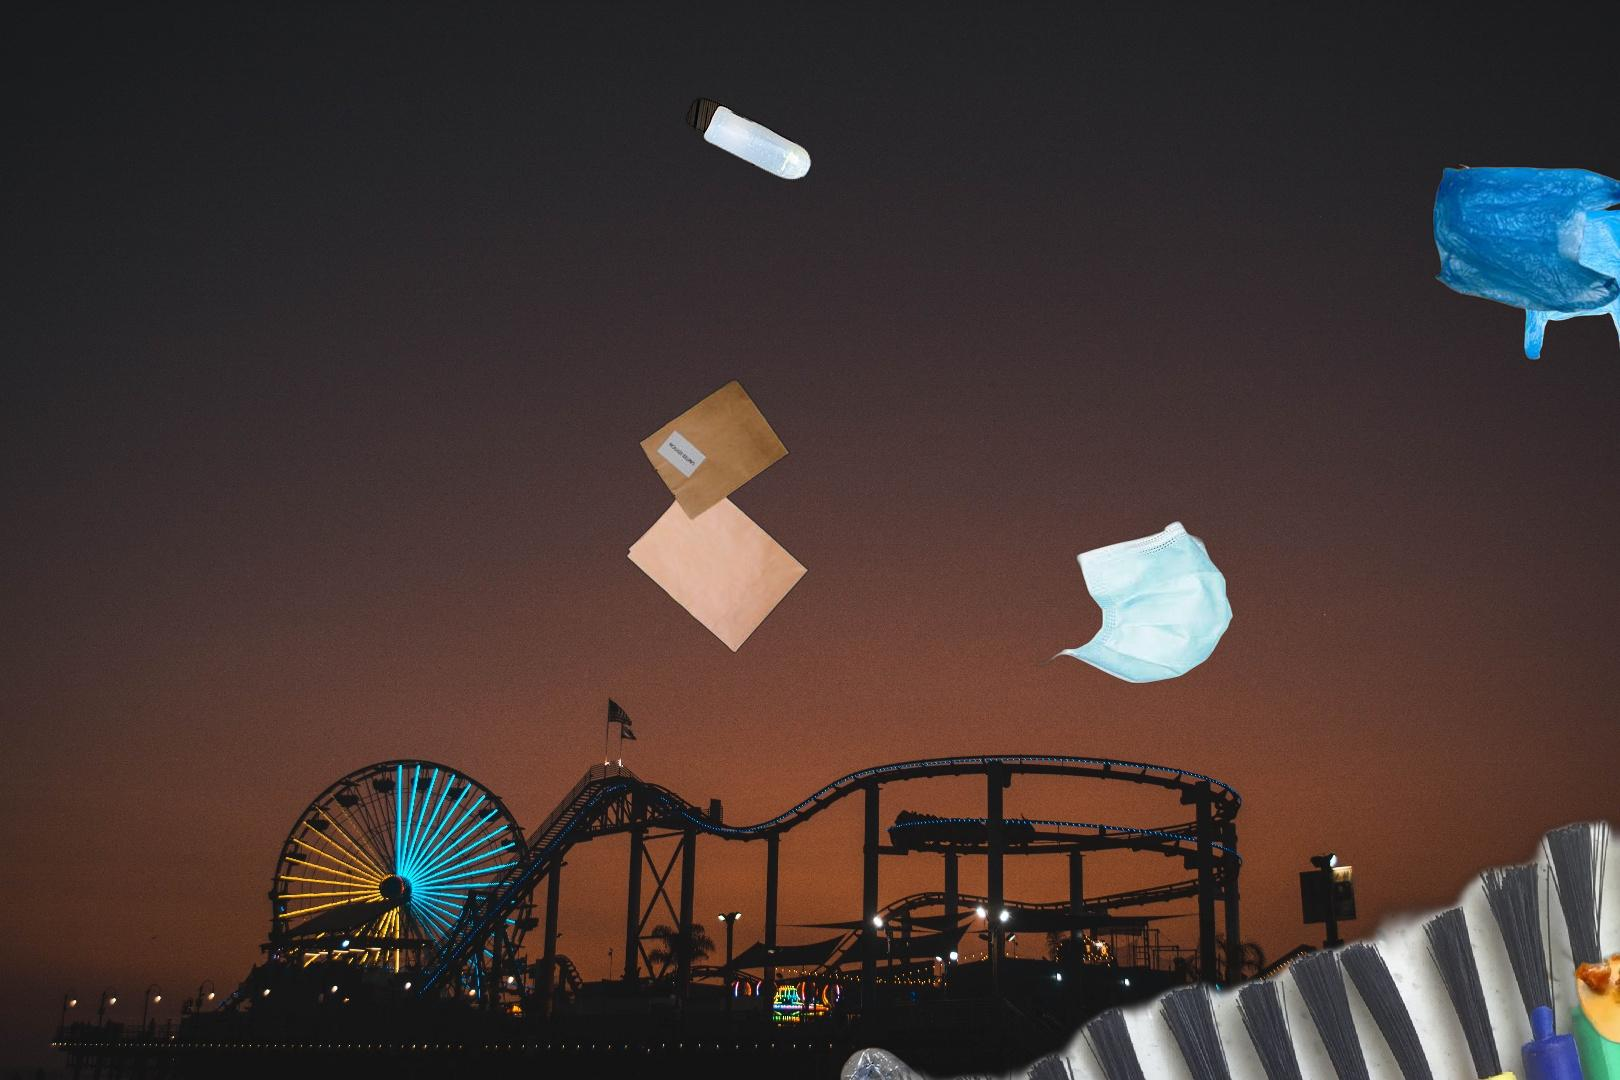biological: (1487, 896, 1620, 1072)
paper-bag: (624, 372, 810, 655)
penholder: (674, 800, 1620, 1080)
plastic-bag: (1430, 162, 1620, 364)
plastic-bottles: (475, 92, 816, 504), (837, 1041, 1002, 1080)
trash: (1035, 518, 1235, 686)
